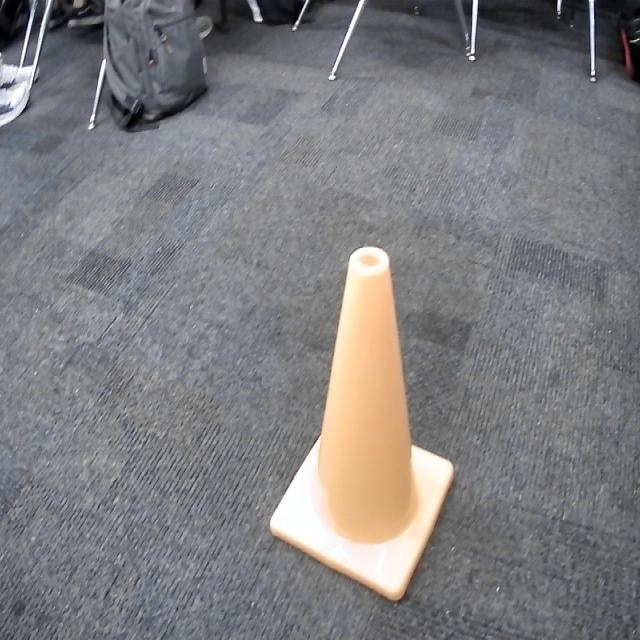cone: (269, 245, 452, 604)
